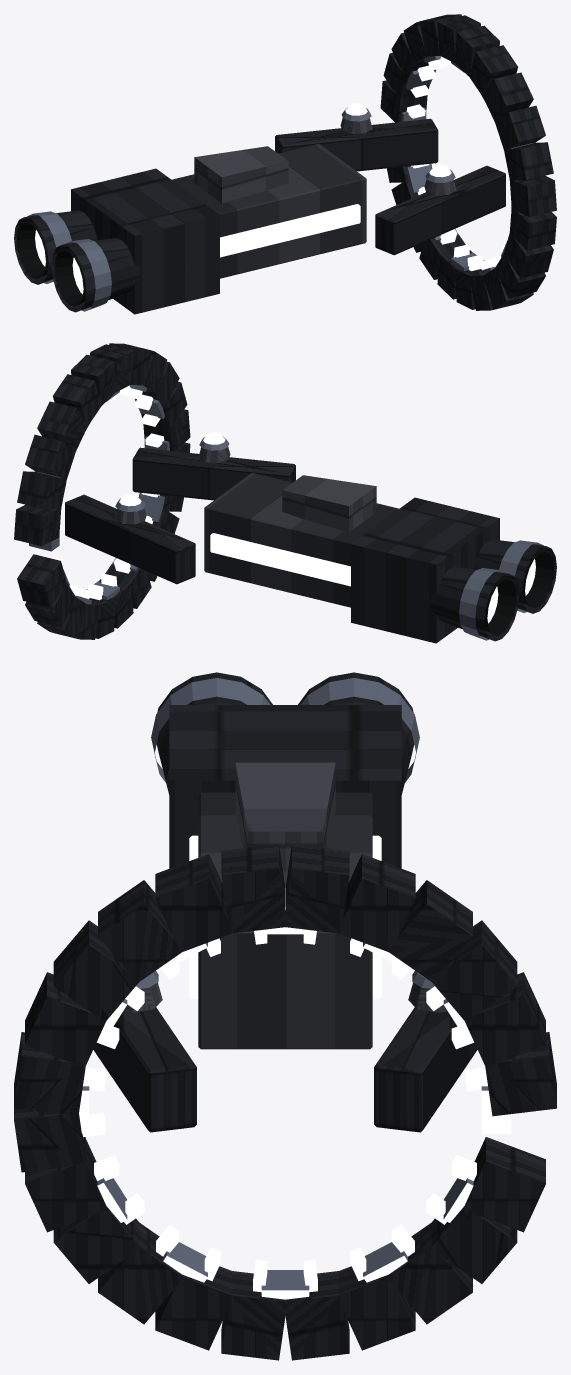
File: world_breaker.glb
3 renders of one model, top to bottom at view 1: azimuth 30°, elevation 25°; view 2: azimuth 150°, elevation 25°; view 3: azimuth 270°, elevation 25°, orthographic. The views are drawn at different scales.
Parts seen in each view (by area): view 1: hull_body, weapon_ring, engine_block, sensor_tower, shield_pylons; view 2: hull_body, weapon_ring, engine_block, sensor_tower, shield_pylons; view 3: weapon_ring, hull_body, engine_block, sensor_tower, shield_pylons.
Part boxes in pixels (x1,y1,x2,y2): hull_body: (172,118,505,278); weapon_ring: (380,14,556,310); engine_block: (14,168,219,314); sensor_tower: (194,146,288,203); shield_pylons: (340,103,456,195); hull_body: (65,447,398,607); weapon_ring: (14,343,190,639); engine_block: (351,497,556,643); sensor_tower: (282,475,376,532); shield_pylons: (114,432,230,524); weapon_ring: (14,844,556,1360); hull_body: (93,792,477,1132); engine_block: (151,672,419,868); sensor_tower: (235,762,335,871); shield_pylons: (123,970,447,1012).
Bounding box in the file's own units: 110 × 65.61 × 65.61.
Materials: 1 (1 with a texture image).
